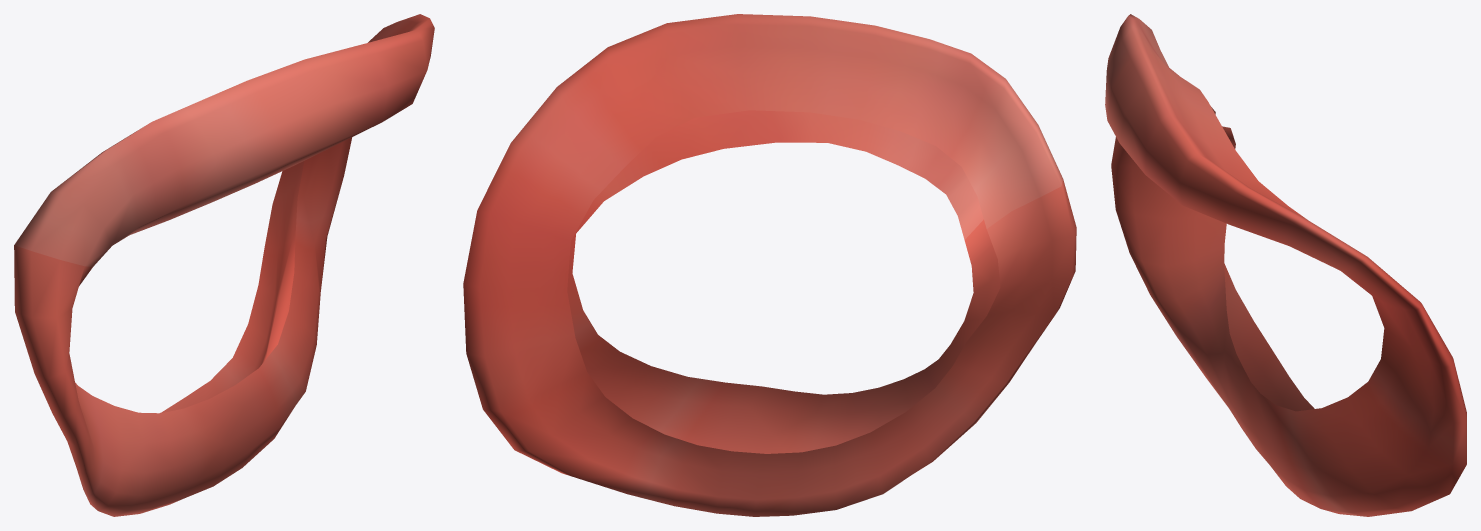
File: Orbicularis_Oculi_Orbital_Muscle_Left.obj
3 renders of one model, left to right at view 1: azimuth 30°, elevation 25°; view 2: azimuth 150°, elevation 25°; view 3: azimuth 270°, elevation 25°, orthographic. The views are drawn at different scales.
Visible parts, largest first — view 1: Orbicularis_Oculi_Muscle_Left:Orbicularis_Oculi_Muscle_Left1_Mes; view 2: Orbicularis_Oculi_Muscle_Left:Orbicularis_Oculi_Muscle_Left1_Mes; view 3: Orbicularis_Oculi_Muscle_Left:Orbicularis_Oculi_Muscle_Left1_Mes.
Part boxes in pixels (<box>): Orbicularis_Oculi_Muscle_Left:Orbicularis_Oculi_Muscle_Left1_Mes: <box>14,14,434,516</box>; Orbicularis_Oculi_Muscle_Left:Orbicularis_Oculi_Muscle_Left1_Mes: <box>463,14,1076,516</box>; Orbicularis_Oculi_Muscle_Left:Orbicularis_Oculi_Muscle_Left1_Mes: <box>1105,14,1466,516</box>.
Size of the model in its own units: 0.735 by 0.6702 by 0.5158.
